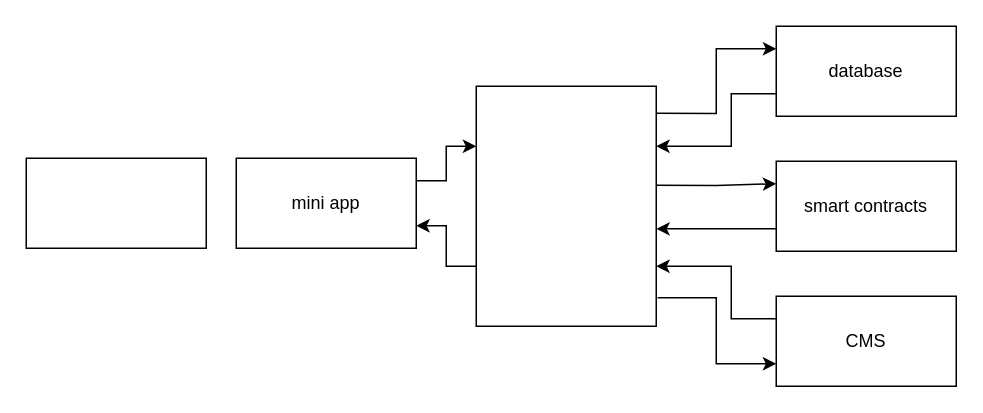
The diagram is 983 pixels wide and 413 high, and some of its shapes have lost their labels. The centre of each missing label's shape, as x and y in pixels:
"API server" goes at pixel 565 205.
"user" goes at pixel 115 202.
